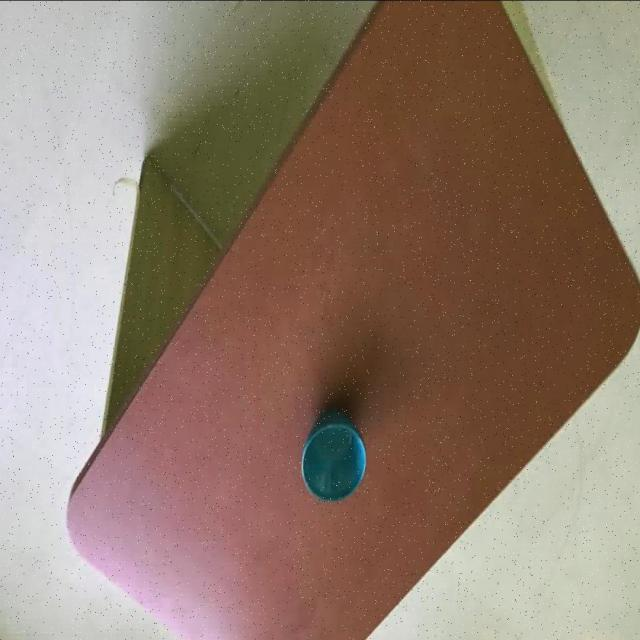Bowl: (63, 0, 640, 640), (300, 404, 366, 501)
